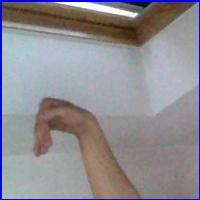del: (27, 93, 102, 164)
